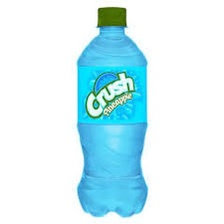bottle: (74, 3, 152, 218)
